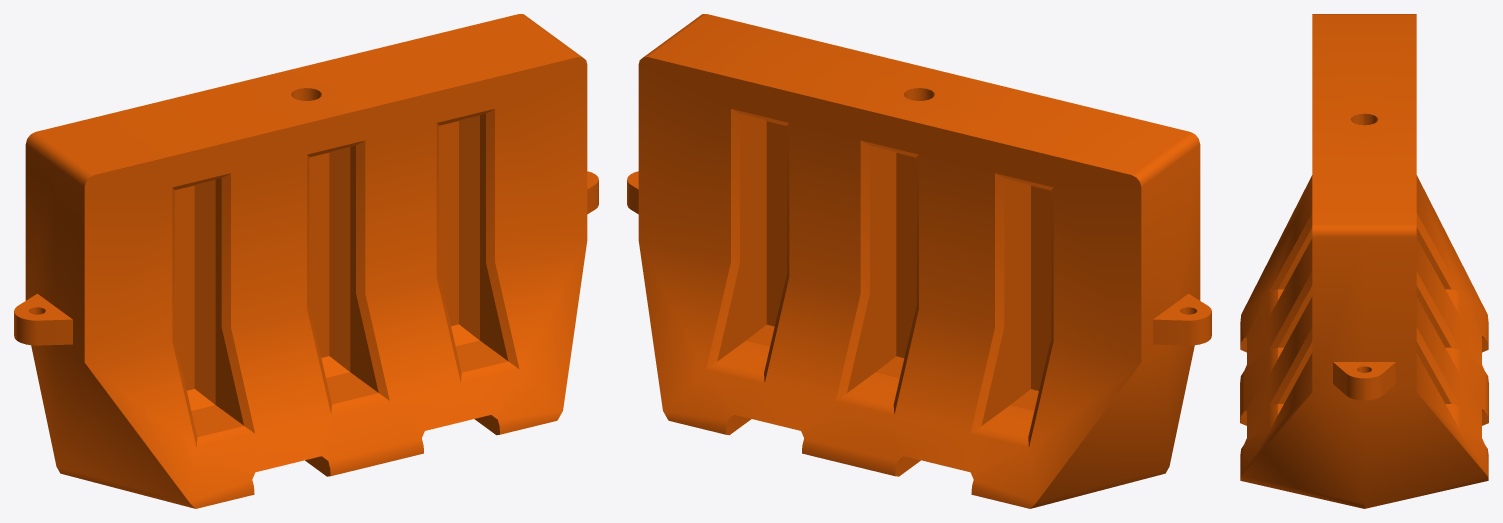
Rendered from trotoar oren3.fbx.
The picture shows the model from 3 angles, left to right: view 1: azimuth 30°, elevation 25°; view 2: azimuth 150°, elevation 25°; view 3: azimuth 270°, elevation 25°; orthographic projection. The views are drawn at different scales.
Parts seen in each view (by area): view 1: trotoar oren; view 2: trotoar oren; view 3: trotoar oren.
Part boxes in pixels (x1,y1,x2,y2): trotoar oren: [14, 14, 598, 508]; trotoar oren: [627, 14, 1211, 508]; trotoar oren: [1240, 14, 1488, 508].
Size of the model in its own units: 376 by 200 by 158.
